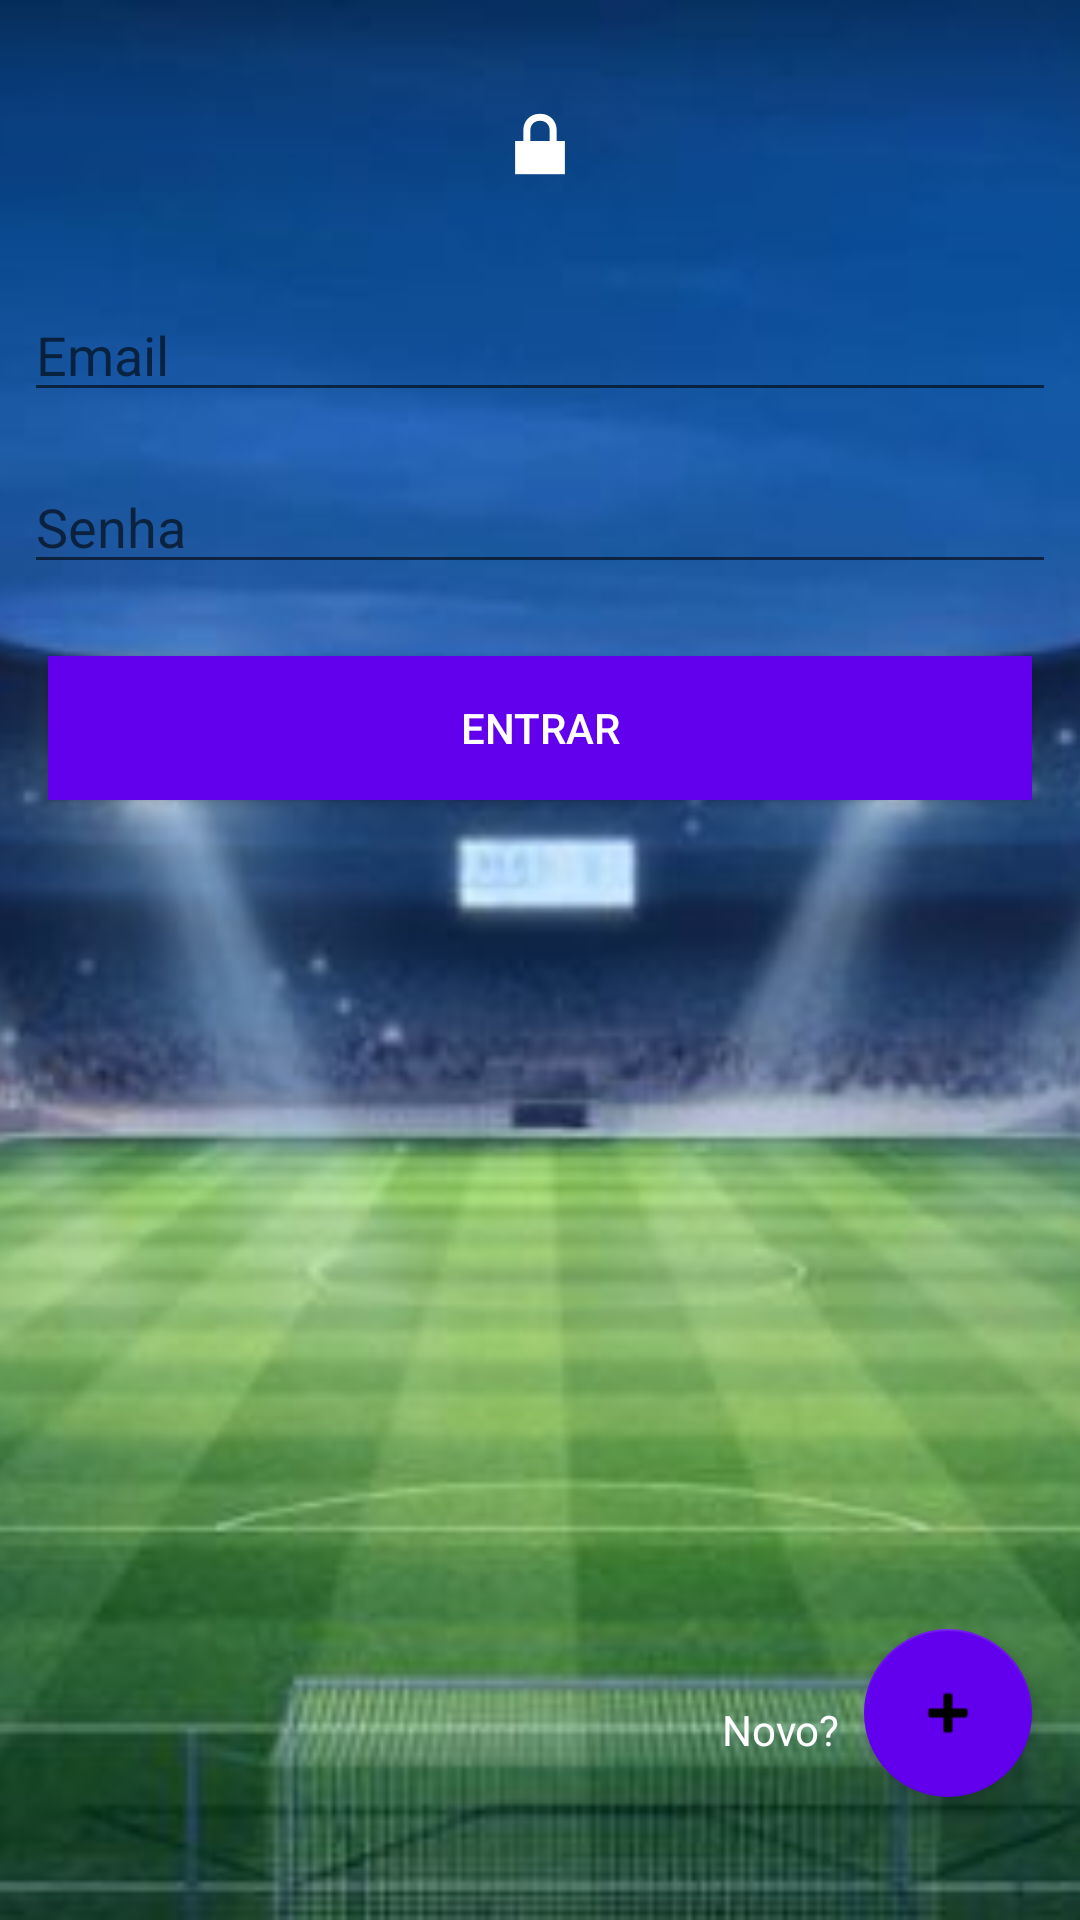

Screen size 1080w x 1920h. Icon name, then its center in pixels as point (x, y):
add: point (948, 1713)
lock: point (540, 144)
